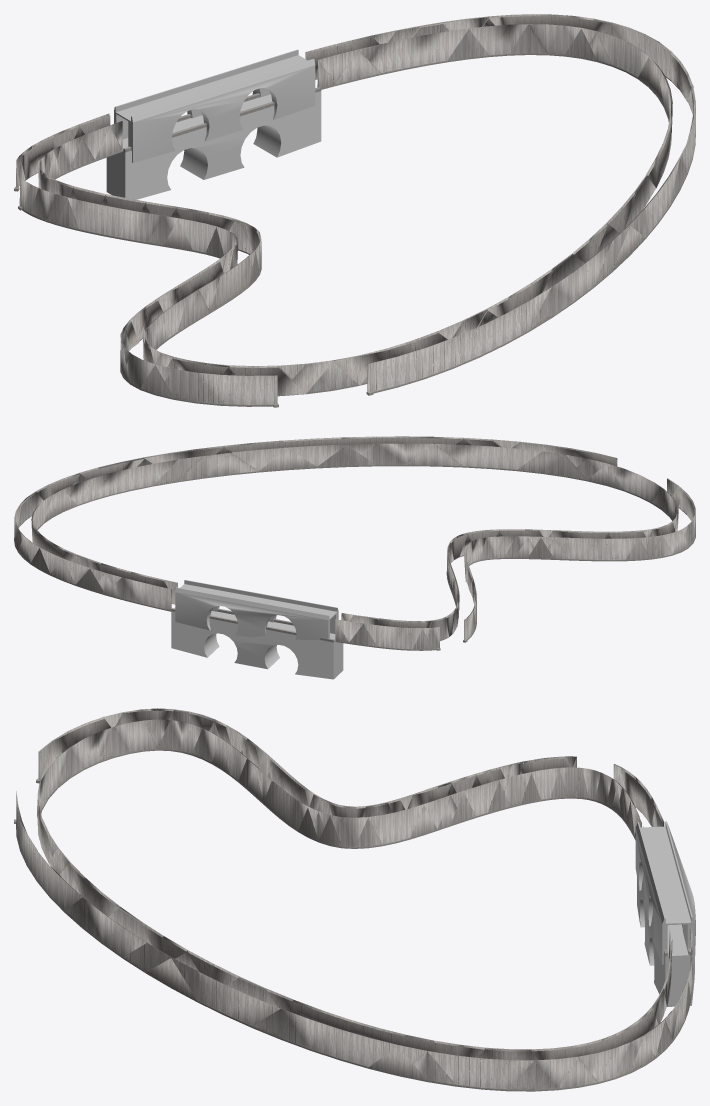
The model's file is invisible-wall.fbx.
3 renders of one model, top to bottom at view 1: azimuth 30°, elevation 25°; view 2: azimuth 150°, elevation 25°; view 3: azimuth 270°, elevation 25°, orthographic. The views are drawn at different scales.
Parts seen in each view (by area): view 1: Box02, bridgeTop, bridgeBottom; view 2: Box02, bridgeBottom, bridgeTop; view 3: Box02, bridgeTop, bridgeBottom.
Boxes of the visible parts, box(x1,y1,x2,y2) form: Box02: box(16, 14, 695, 406); bridgeTop: box(114, 49, 315, 162); bridgeBottom: box(106, 87, 321, 199); Box02: box(14, 436, 695, 650); bridgeBottom: box(171, 607, 343, 679); bridgeTop: box(175, 580, 338, 639); Box02: box(16, 708, 693, 1091); bridgeTop: box(635, 821, 695, 964); bridgeBottom: box(637, 876, 694, 1006).
Size of the model in its own units: 368 by 41.42 by 301.
